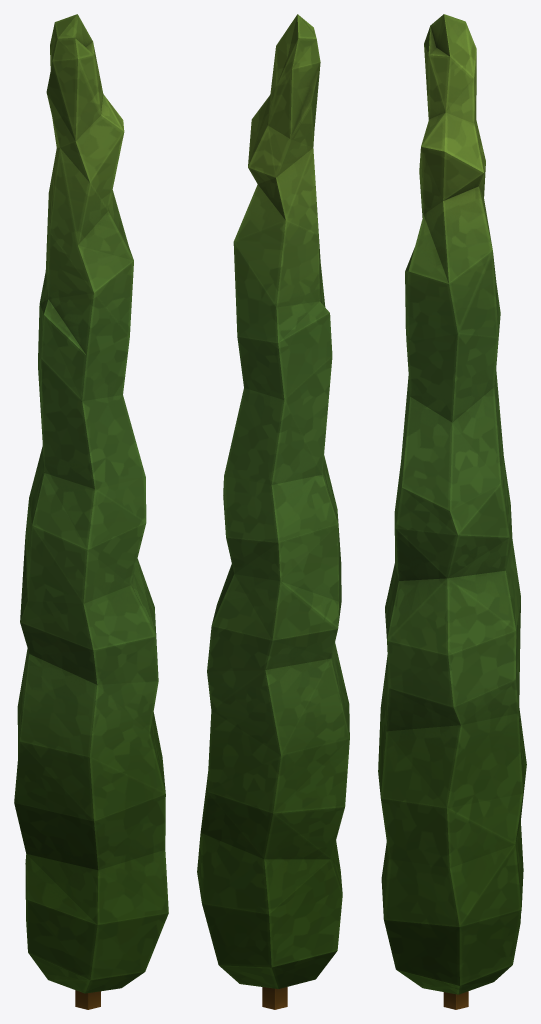
Rendered from cypress.glb.
3 renders of one model, left to right at view 1: azimuth 30°, elevation 25°; view 2: azimuth 150°, elevation 25°; view 3: azimuth 270°, elevation 25°, orthographic.
Parts seen in each view (by area): view 1: CypressTree_mesh; view 2: CypressTree_mesh; view 3: CypressTree_mesh.
Part boxes in pixels (x1,y1,x2,y2): CypressTree_mesh: (14, 14, 168, 1009); CypressTree_mesh: (197, 14, 349, 1009); CypressTree_mesh: (378, 14, 526, 1009).
Bounding box in the file's own units: 2.03 × 12.99 × 1.78.
1 material, 1 textured.
